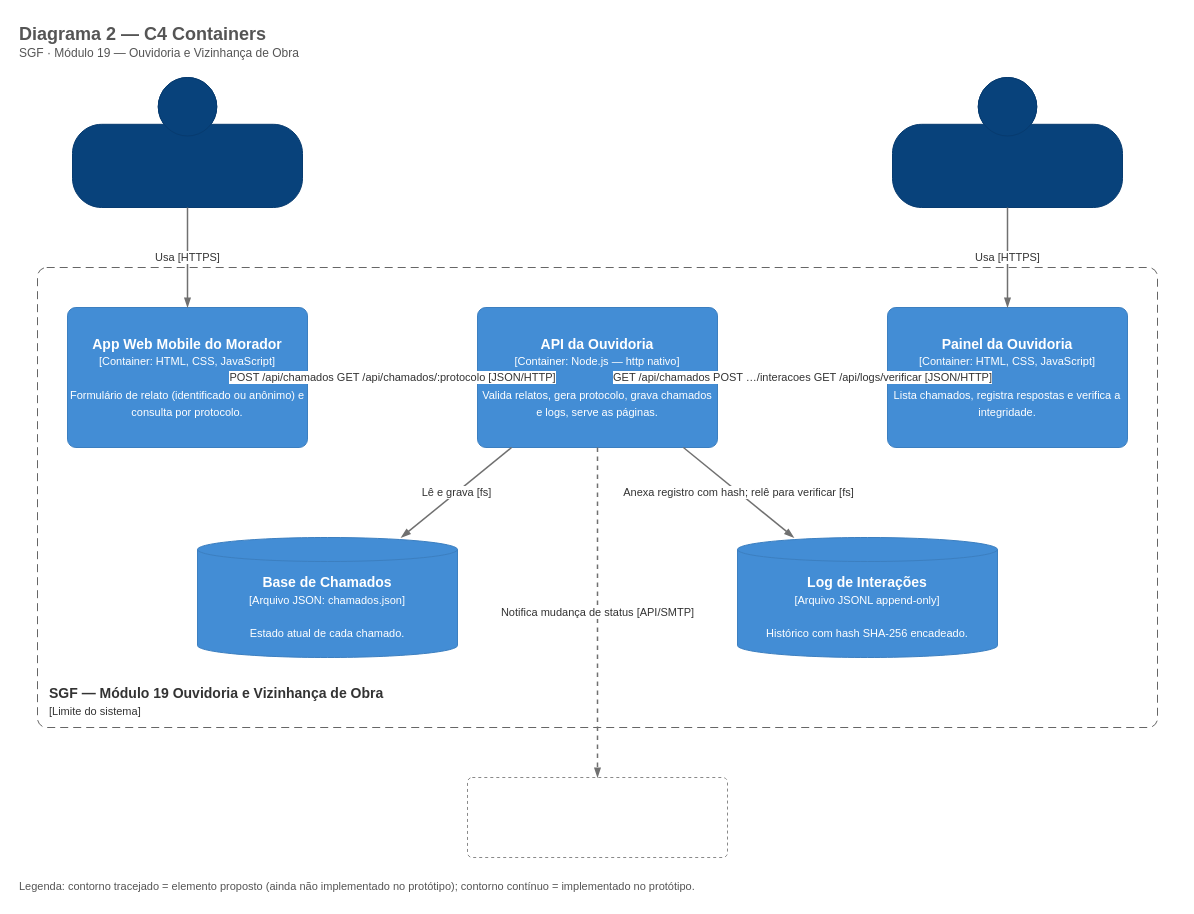
Image size: 1194x914. Some labels were removed from this diagram. The centre of each missing label's shape, as x and y in pixels:
"Atendente da Ouvidoria [Pessoa]" goes at [1007,142].
"Morador / Vizinho [Pessoa]" goes at [187,142].
"Serviço de E-mail / SMS [Sistema Externo — proposto]" goes at [597,817].
